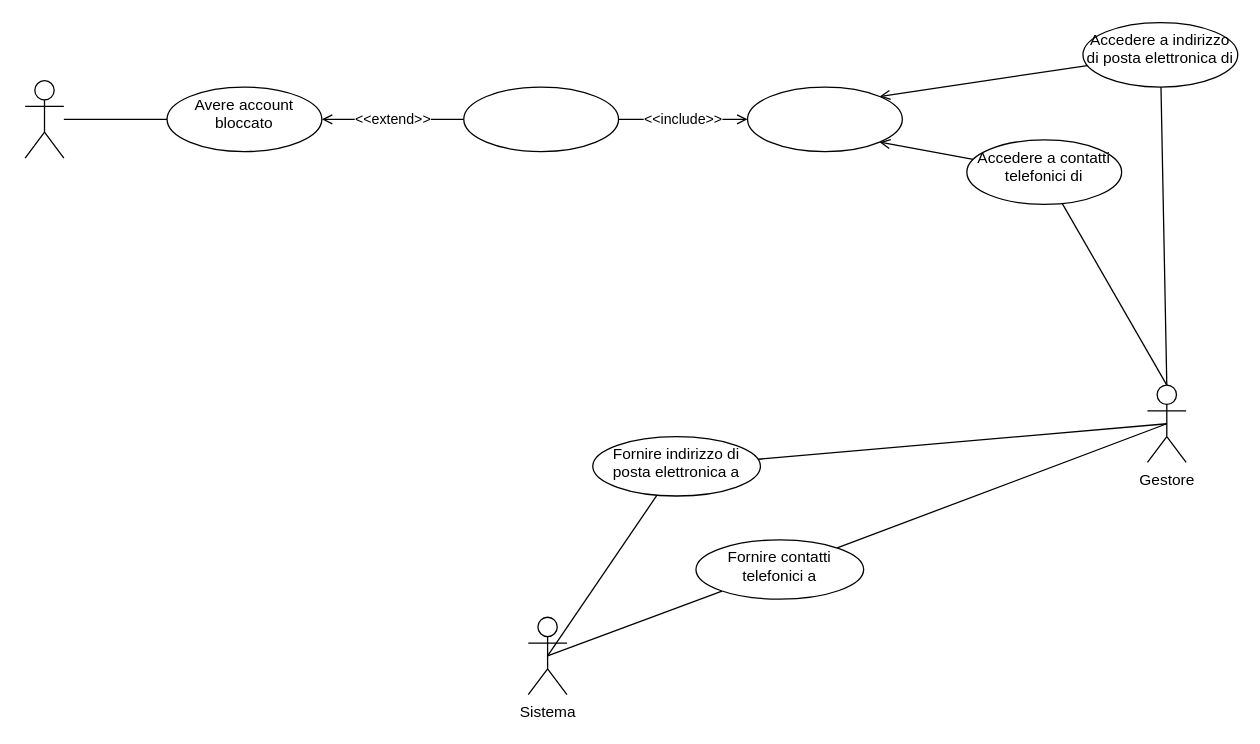
Image size: 1260x744. Some labels were removed from this diagram. The centre of each missing label's shape, as x and y in pixels:
Accedere all'applicazione: (540,119)
Essere reindirizzato a una pagina web: (824,119)
Utente: (44,118)
